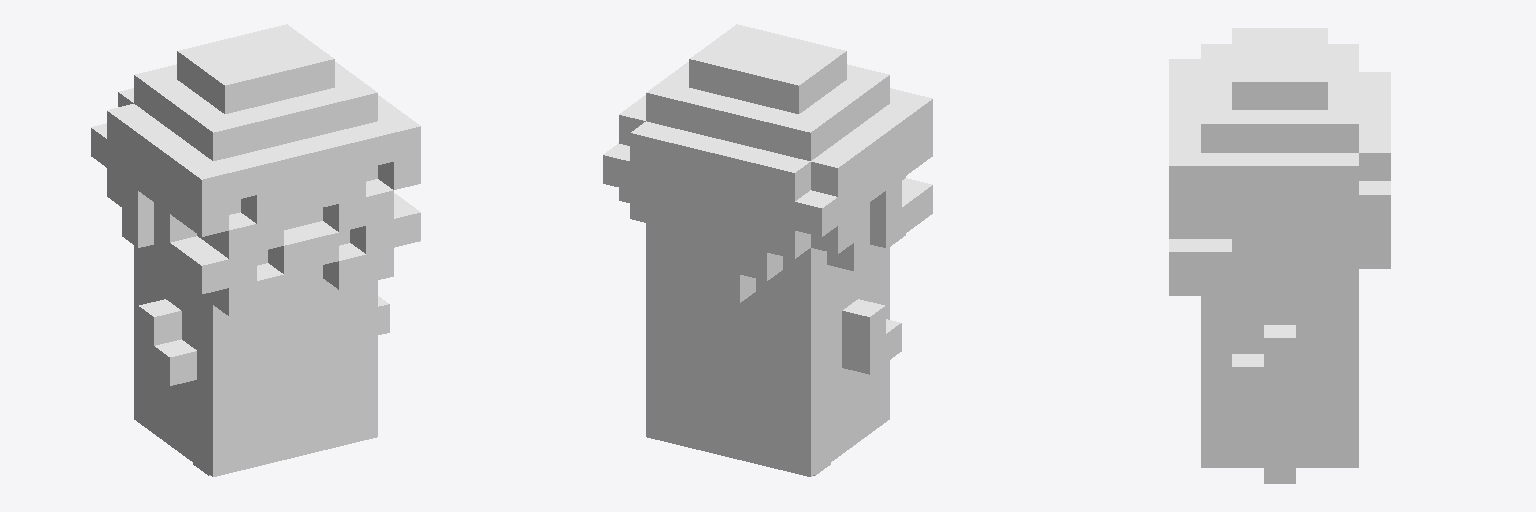
File: ama002-0.obj
3 views of the same model, side by side, from view 1: azimuth 30°, elevation 25°; view 2: azimuth 150°, elevation 25°; view 3: azimuth 270°, elevation 25° (orthographic).
Visible parts, largest first — view 1: ama002-0; view 2: ama002-0; view 3: ama002-0.
Part boxes in pixels (x1,y1,x2,y2): ama002-0: (91, 24, 420, 476); ama002-0: (603, 24, 932, 476); ama002-0: (1169, 28, 1390, 483).
Bounding box in the file's own units: 8 × 14 × 7.